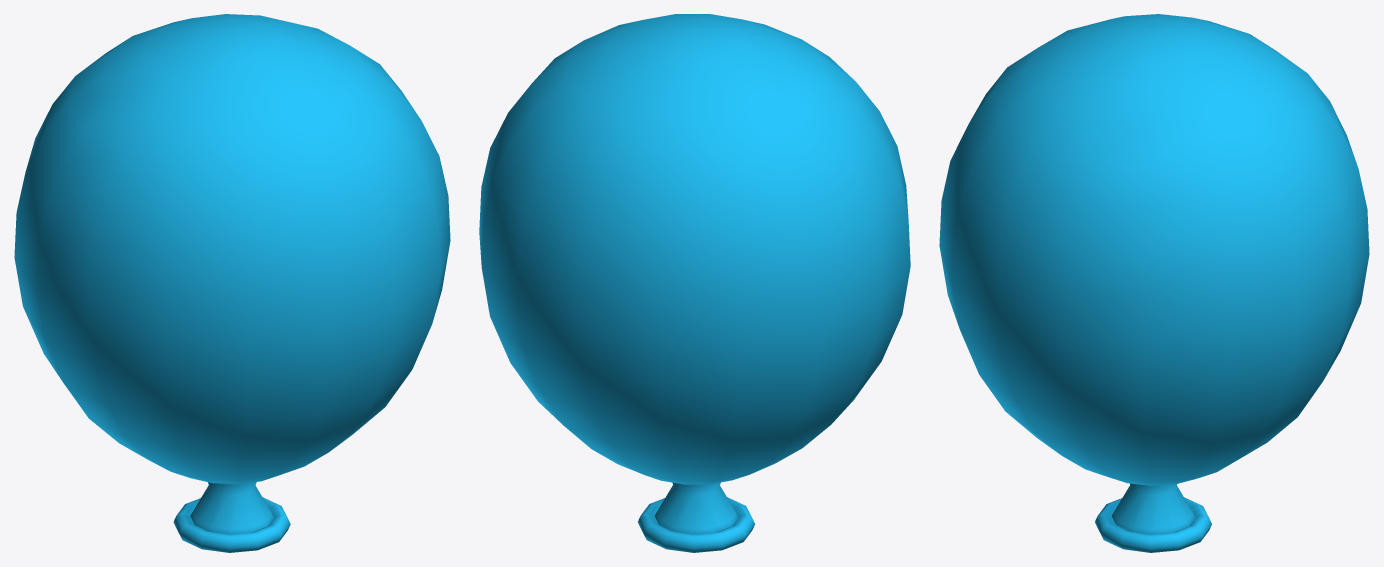
Rendered from 0-balloon_flatblue.fbx.
3 renders of one model, left to right at view 1: azimuth 30°, elevation 25°; view 2: azimuth 150°, elevation 25°; view 3: azimuth 270°, elevation 25°, orthographic.
Parts seen in each view (by area): view 1: 0-balloon_flatblue; view 2: 0-balloon_flatblue; view 3: 0-balloon_flatblue.
Part boxes in pixels (left/top/right/bottom): 0-balloon_flatblue: left=14, top=14, right=450, bottom=552; 0-balloon_flatblue: left=479, top=14, right=910, bottom=552; 0-balloon_flatblue: left=939, top=14, right=1369, bottom=552.
Bounding box in the file's own units: 73.44 × 91.61 × 71.95.
